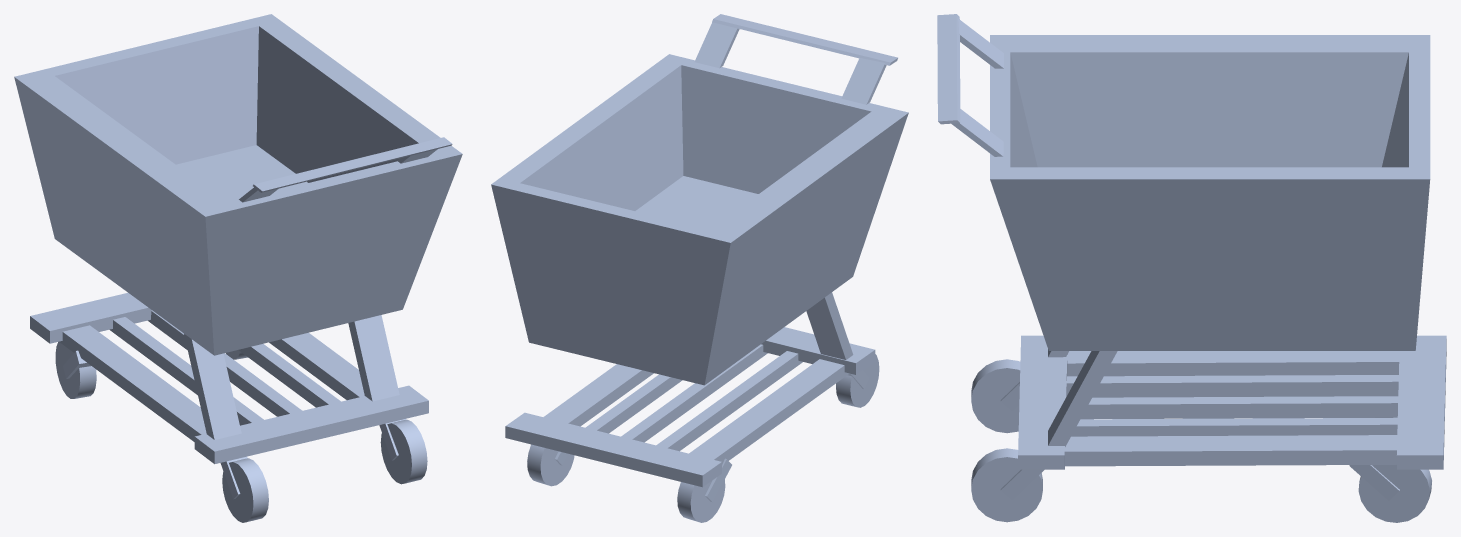
The model's file is shoppingcart.fbx.
3 renders of one model, left to right at view 1: azimuth 30°, elevation 25°; view 2: azimuth 150°, elevation 25°; view 3: azimuth 270°, elevation 25°, orthographic. The views are drawn at different scales.
Visible parts, largest first — view 1: pCylinder64; view 2: pCylinder64; view 3: pCylinder64.
Boxes of the visible parts, box(x1,y1,x2,y2) form: pCylinder64: box(14, 14, 462, 522); pCylinder64: box(491, 14, 908, 522); pCylinder64: box(937, 14, 1446, 522).
Bounding box in the file's own units: 290 × 381 × 431.
